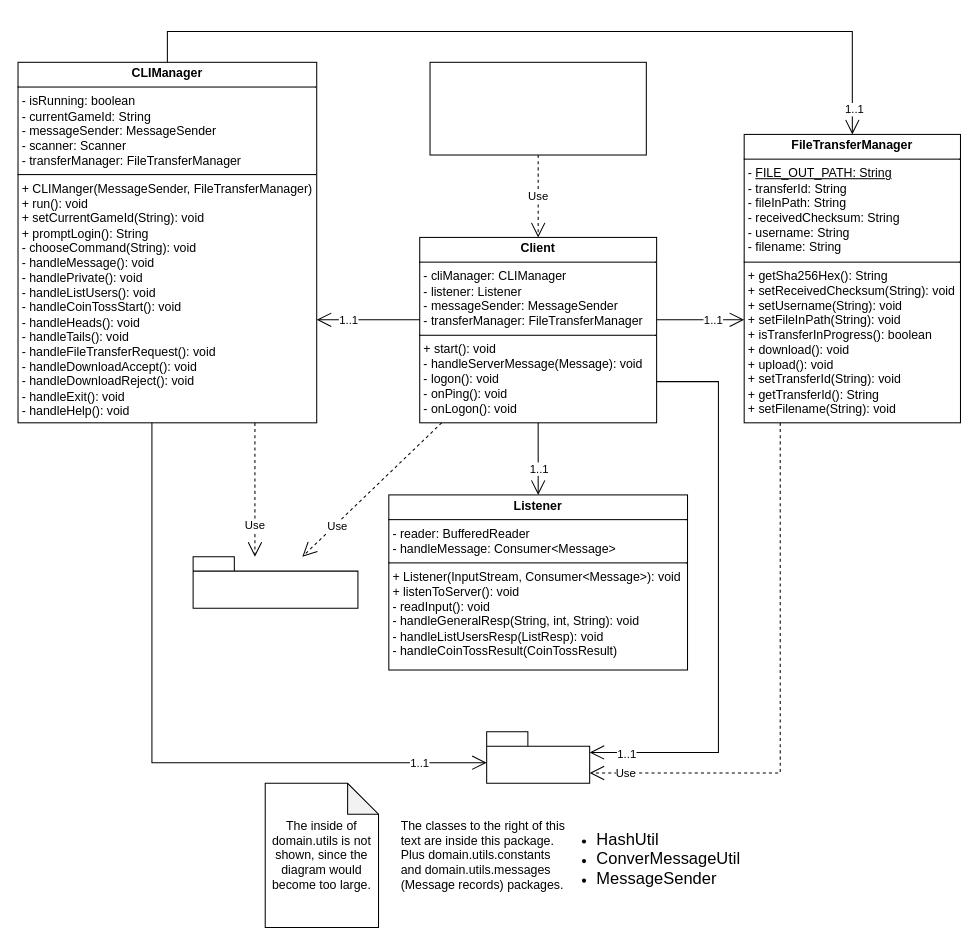
The diagram is 979 pixels wide and 946 high, and some of its shapes have lost their labels. Each missing label, with the centre of its shape:
"domain.client.constants" goes at (x=275, y=582).
"domain.utils" goes at (x=538, y=757).
"Main + main(String[]): void" goes at (x=537, y=108).
